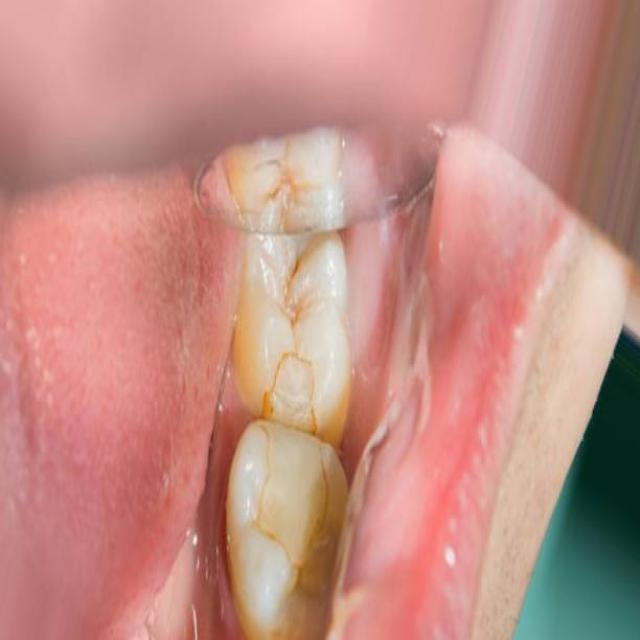caries: (234, 344, 348, 574)
